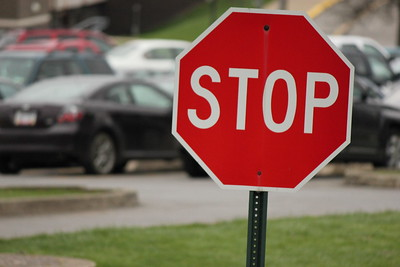StopSign: (170, 6, 354, 191)
